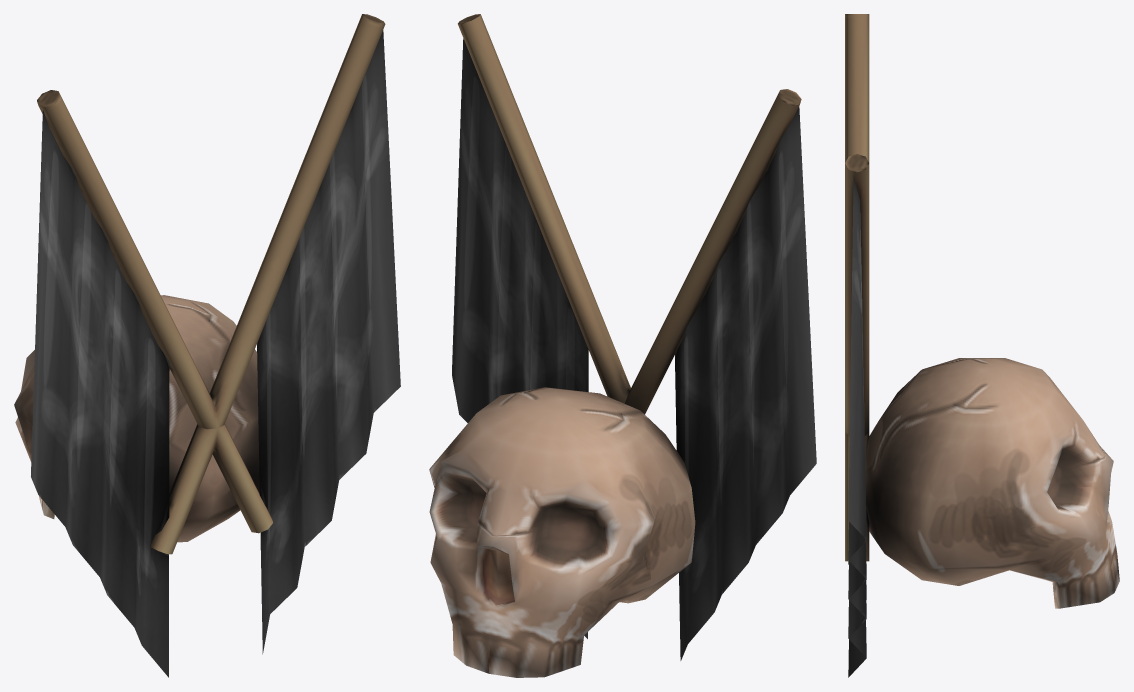
Rendered from cannon_target_model.FBX.
3 views of the same model, side by side, from view 1: azimuth 30°, elevation 25°; view 2: azimuth 150°, elevation 25°; view 3: azimuth 270°, elevation 25° (orthographic). The views are drawn at different scales.
Visible parts, largest first — view 1: target_model; view 2: target_model; view 3: target_model.
Boxes of the visible parts, x1,y1,x2,y2 form: target_model: (14, 14, 400, 677); target_model: (429, 14, 816, 677); target_model: (845, 14, 1119, 677).
Bounding box in the file's own units: 0.7626 × 1.2 × 0.5217.
